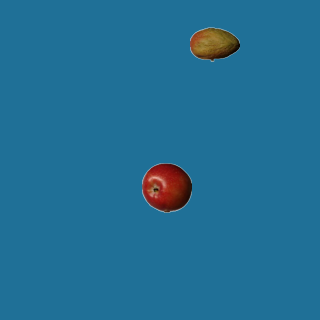Apple Braeburn: (141, 162, 191, 212)
Papaya: (189, 19, 239, 69)
